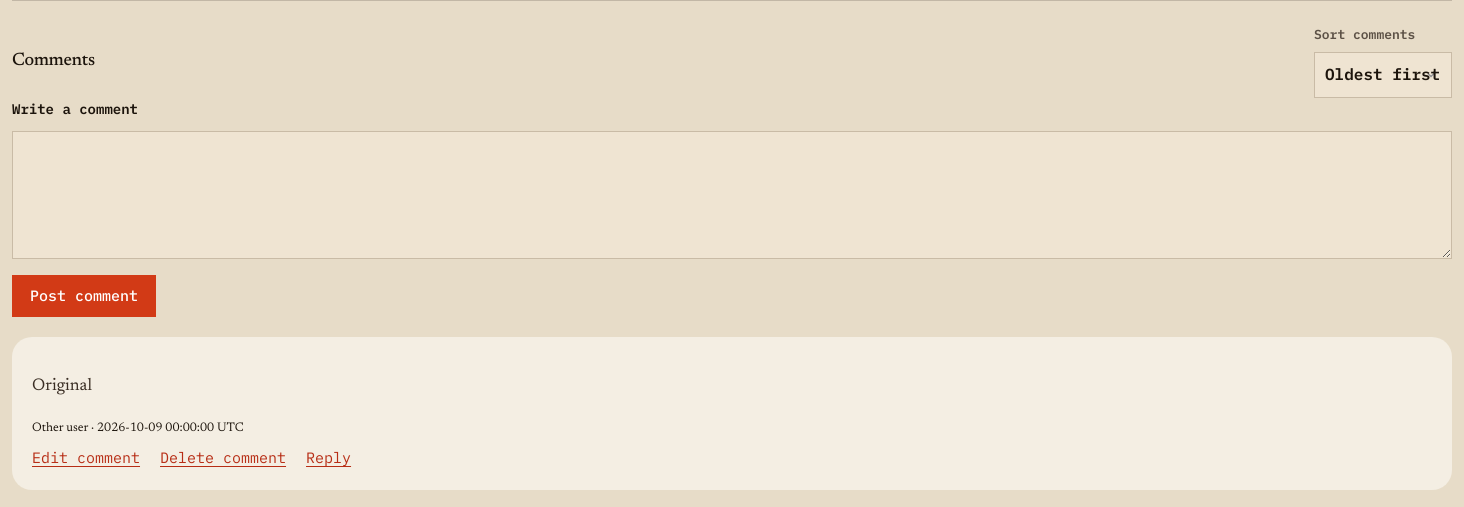
it: keeps an edit draft recoverable when its comment is removed remotely
Click the button "Edit comment": [86, 458] box [32,446,140,470]
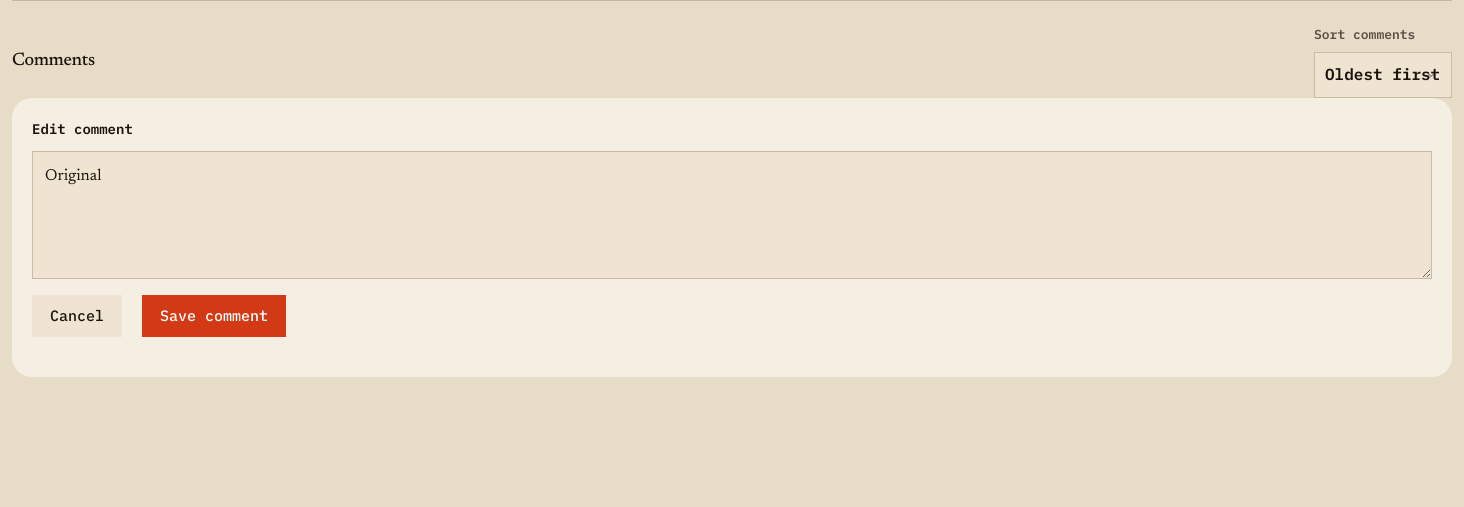
Replace the text in the text box labelled "Edit comment" with "Recoverable draft": [732, 215] box [32,151,1432,279]
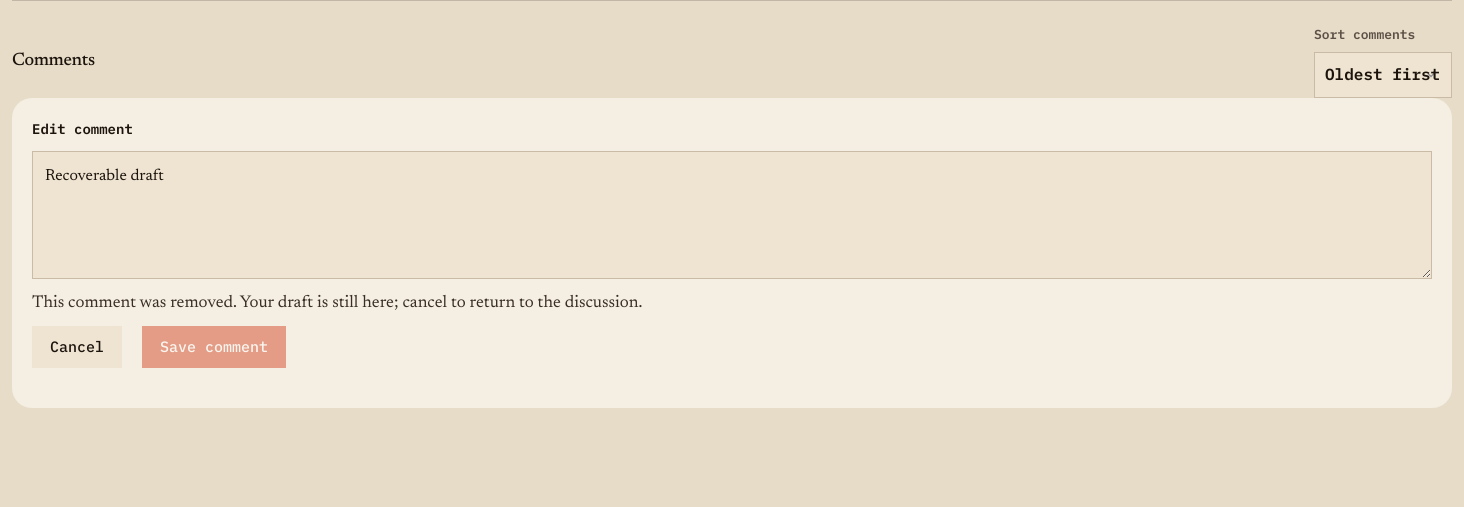
Result: the button "Save comment" is disabled at [142,326,286,368]
Result: the message shows "Your draft is still here" at [32,295,642,312]
Click the button "Cancel": [77, 346] box [32,326,122,368]
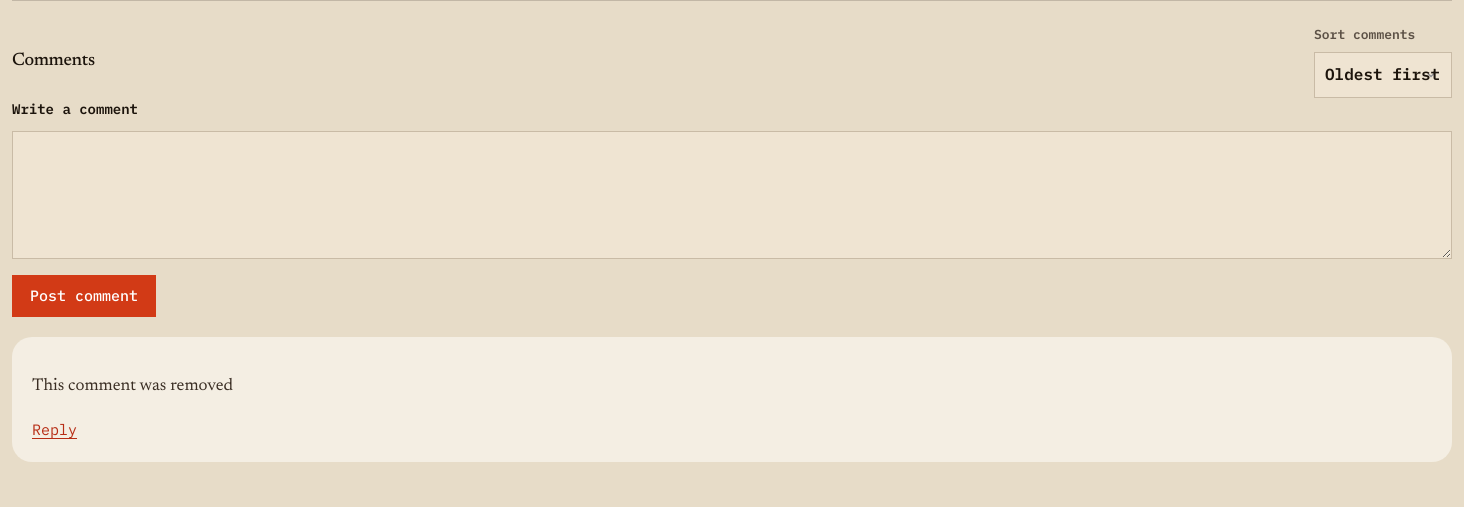
Result: the text box labelled "Write a comment" is shown at [12,131,1452,259]
